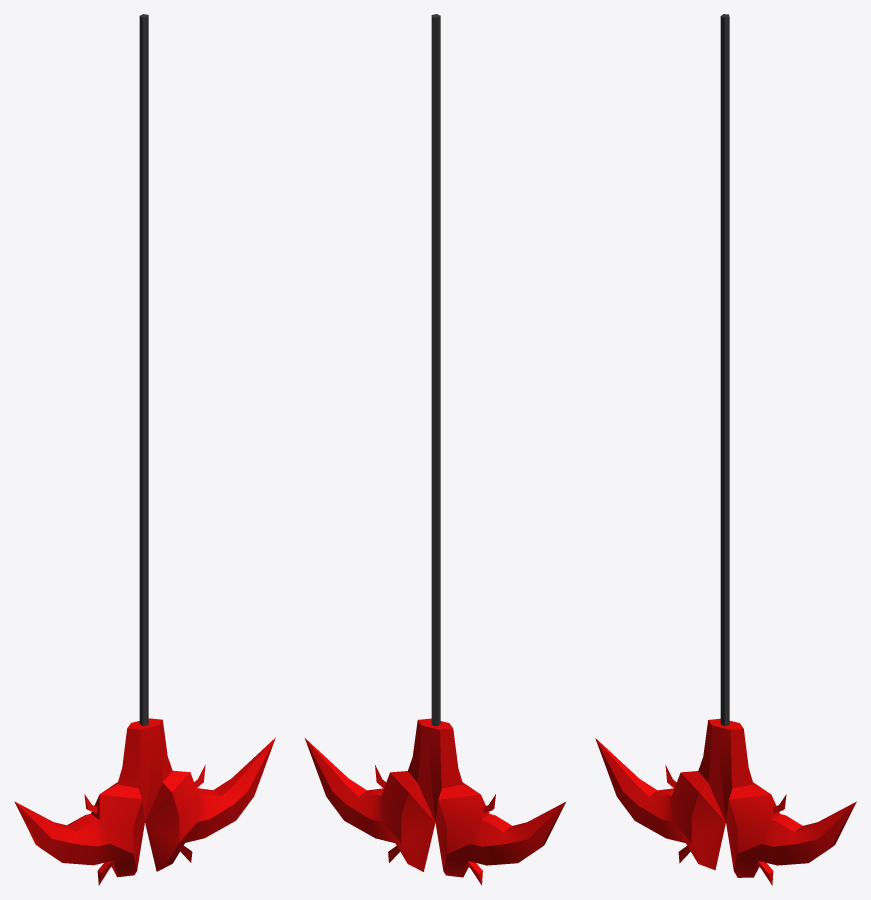
The model's file is AXE TRAP.fbx.
The picture shows the model from 3 angles, left to right: view 1: azimuth 30°, elevation 25°; view 2: azimuth 150°, elevation 25°; view 3: azimuth 330°, elevation 25°; orthographic projection.
Parts seen in each view (by area): view 1: Platonic_2, Cylinder; view 2: Platonic_2, Cylinder; view 3: Platonic_2, Cylinder.
Part boxes in pixels (bbox=[...]): Platonic_2: bbox=[14, 718, 275, 885]; Cylinder: bbox=[139, 14, 148, 725]; Platonic_2: bbox=[305, 718, 565, 885]; Cylinder: bbox=[431, 14, 440, 726]; Platonic_2: bbox=[595, 718, 856, 885]; Cylinder: bbox=[720, 14, 729, 725].
Bounding box in the file's own units: 115 × 362 × 18.41.
